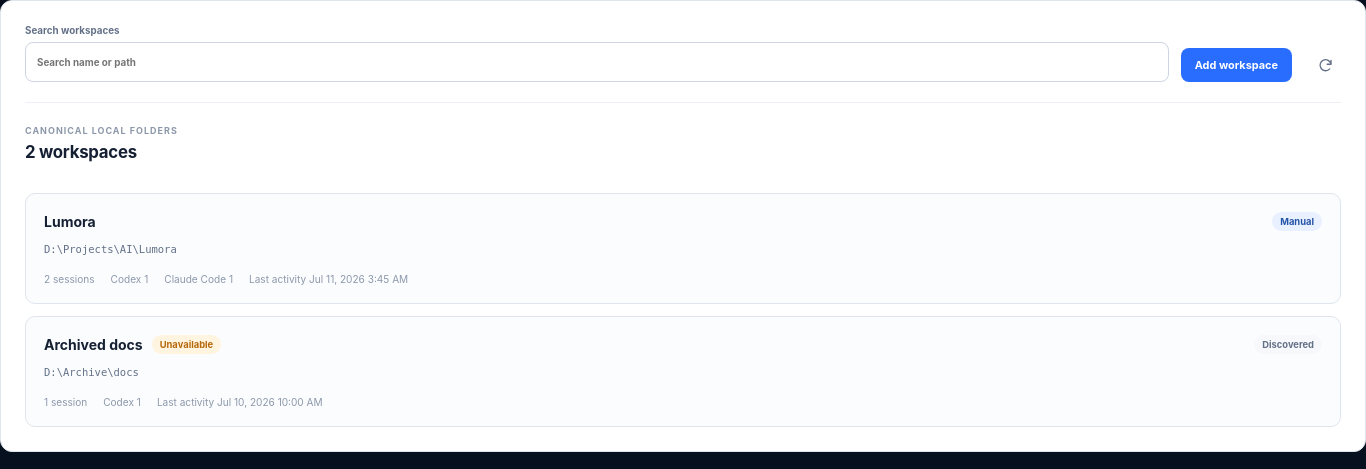
Test: WorkspacesView › distinguishes filtered workspace results from an empty catalog
Type "missing workspace" into the search field labelled "Search workspaces" at (597,62), box [25, 42, 1169, 82]
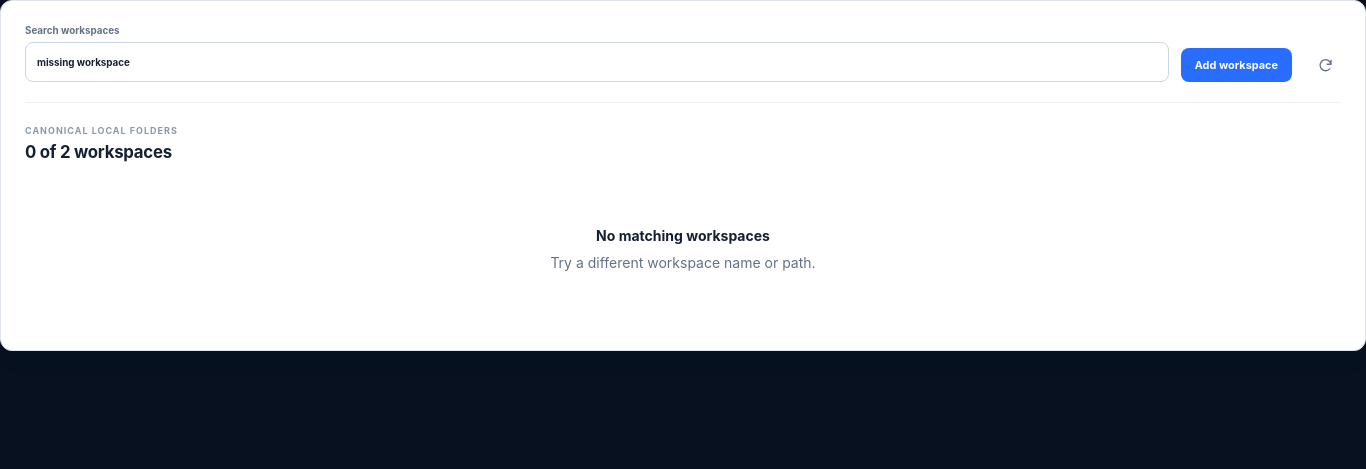
Result: the heading "No matching workspaces" is shown at [596, 227, 770, 244]
